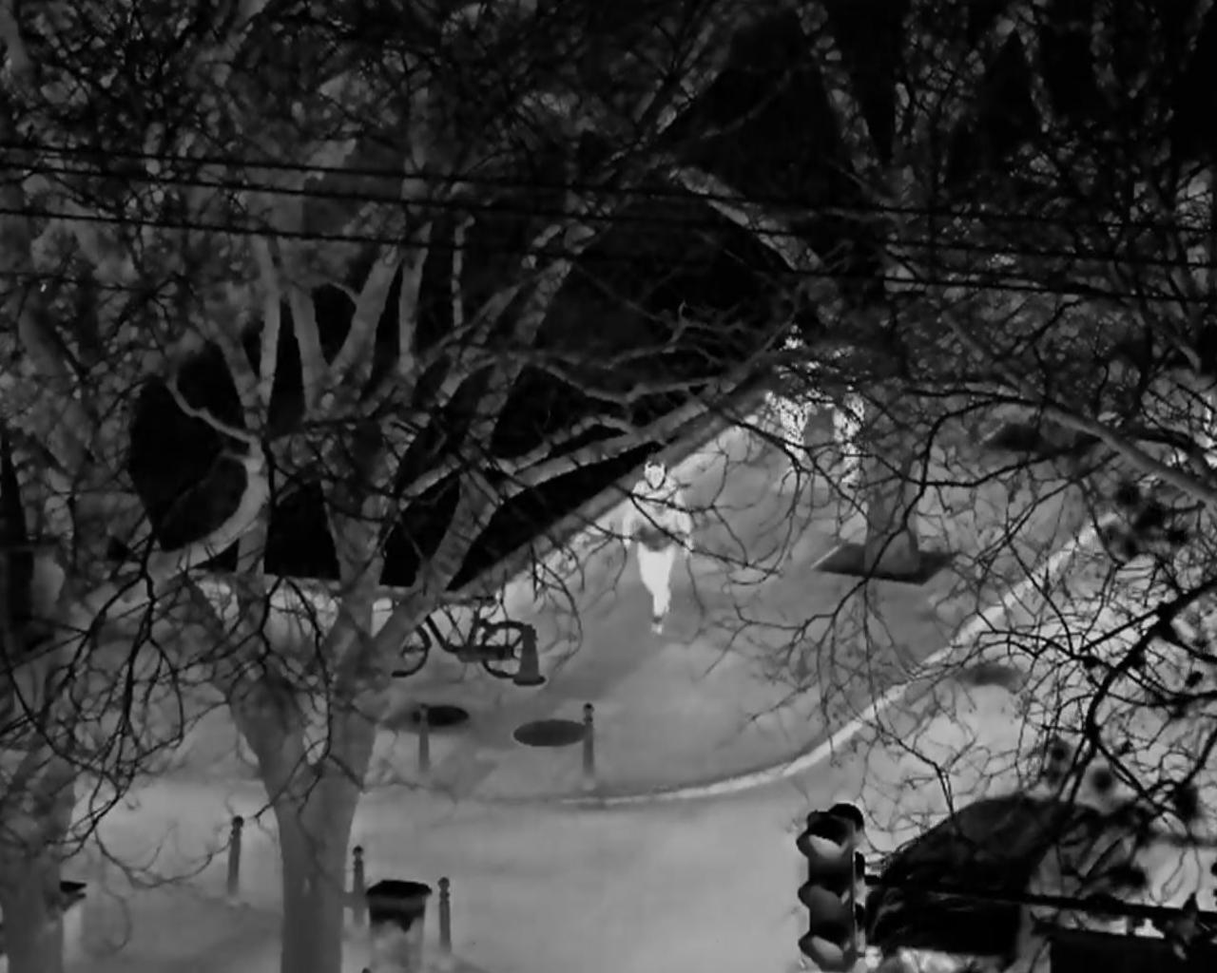person: (623, 455, 693, 634)
